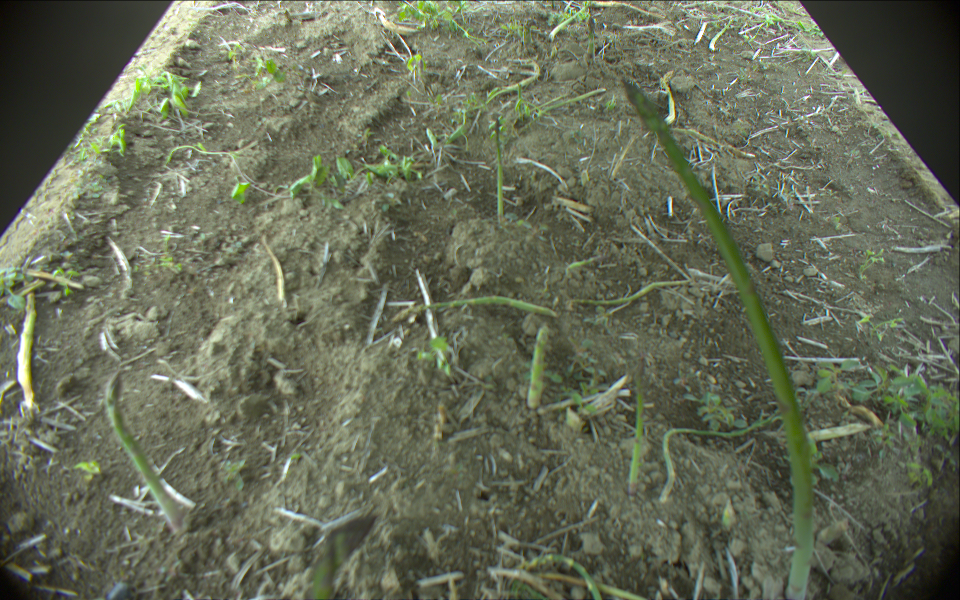aspa: (620, 79, 815, 600), (106, 373, 186, 527), (660, 409, 781, 504), (390, 294, 559, 323), (523, 551, 604, 600), (569, 279, 697, 303), (626, 358, 646, 498), (526, 89, 605, 123), (486, 55, 542, 100), (17, 294, 38, 408), (310, 527, 339, 600), (528, 324, 549, 410), (549, 2, 587, 40), (493, 118, 506, 214), (592, 1, 663, 18), (661, 68, 679, 129), (710, 17, 734, 50), (584, 17, 597, 59)
